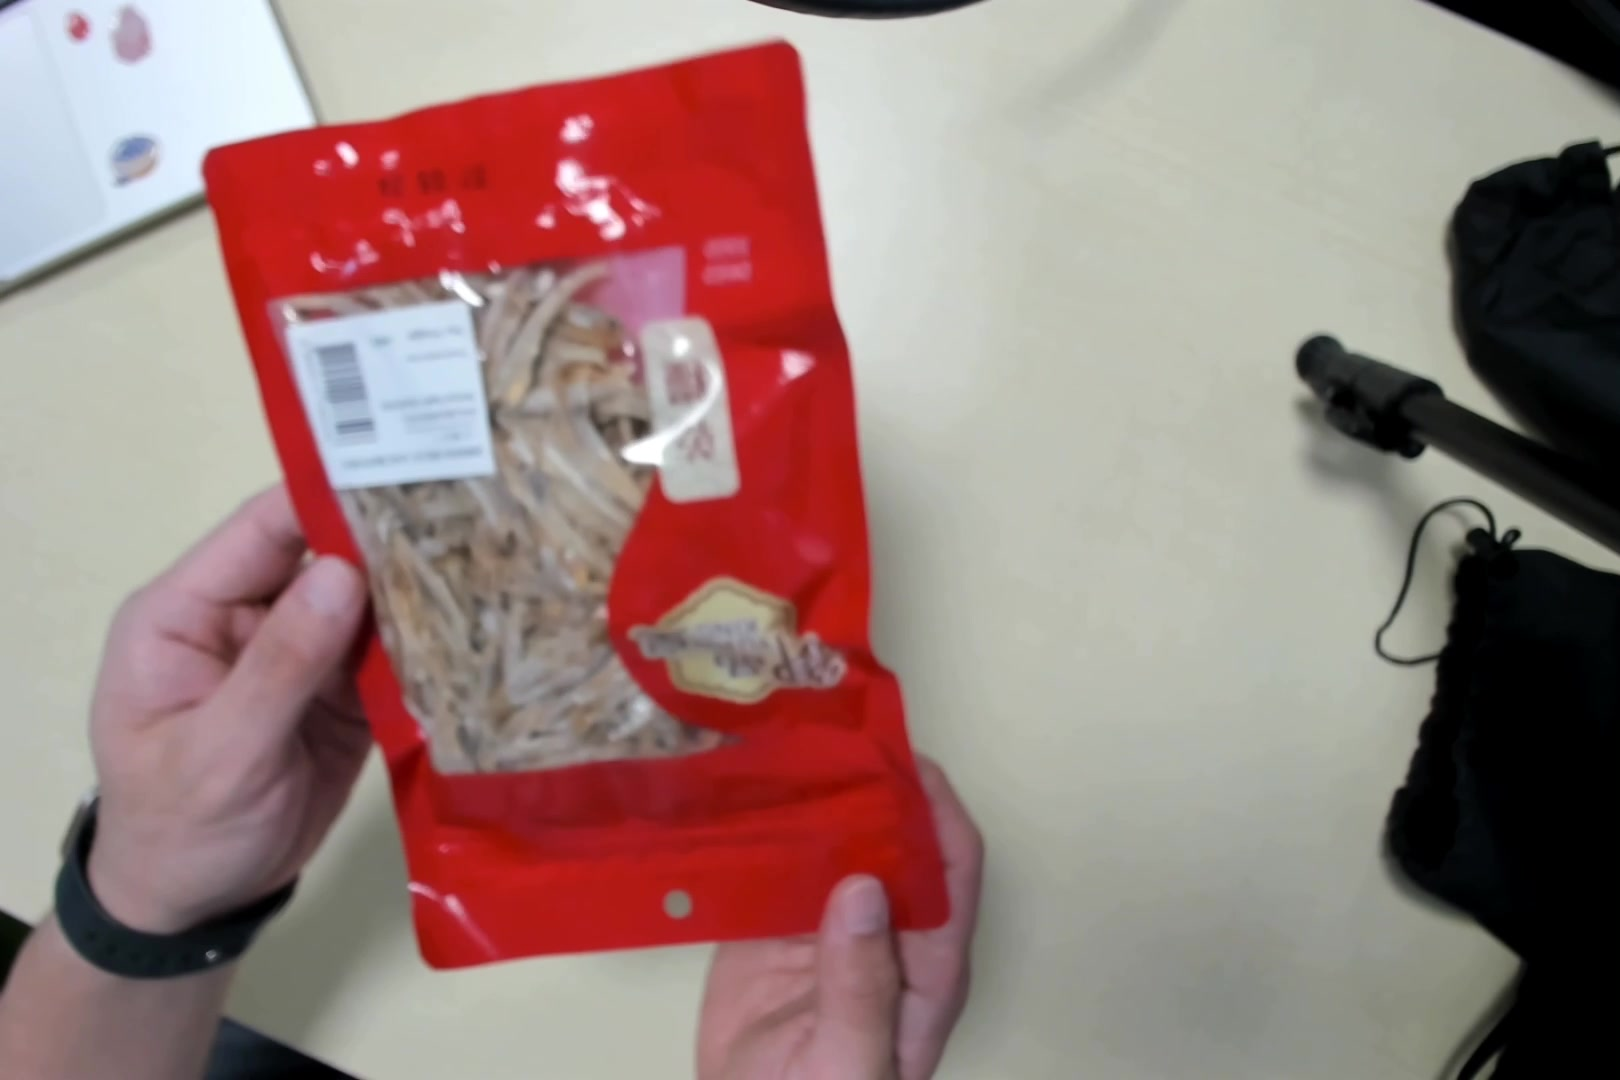DriedMeatSeafood_100-199g_NonHalal_NonHealthy: (250, 45, 943, 931)
